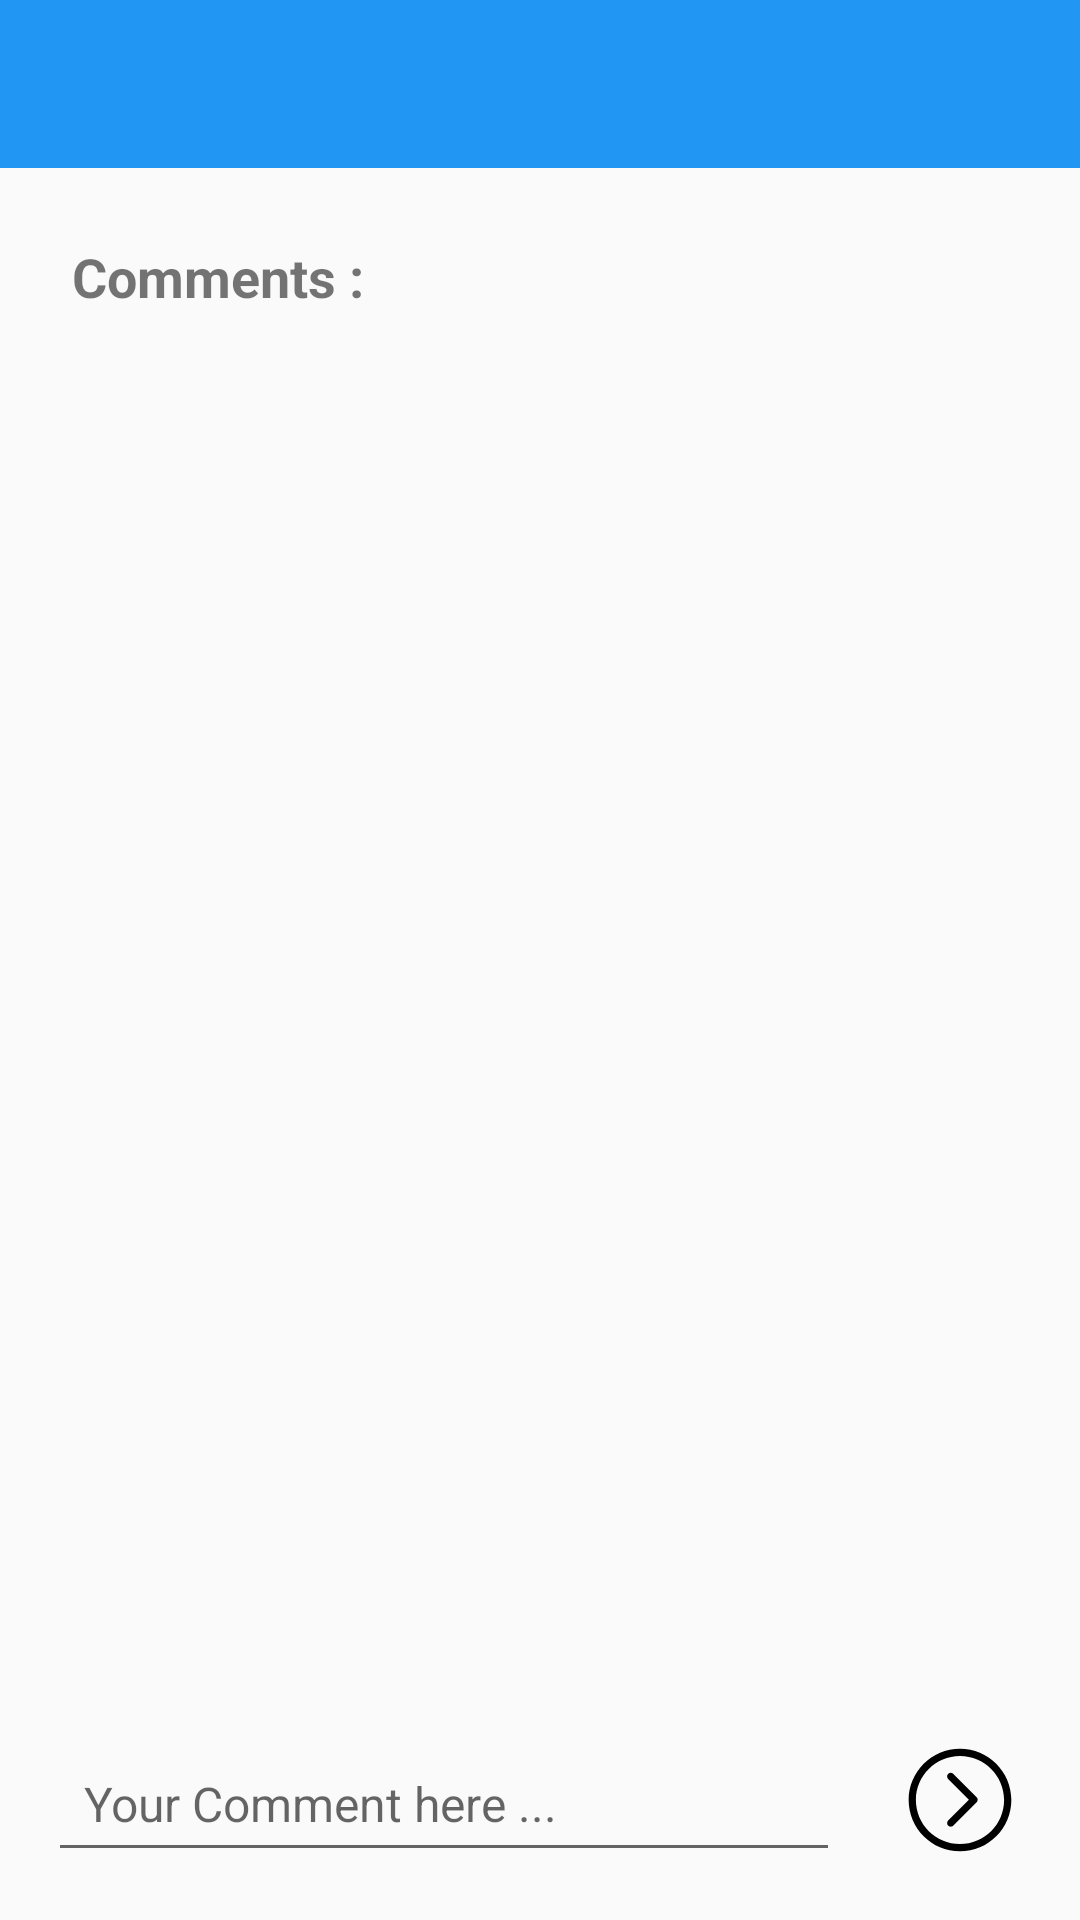

Screen size 1080 x 1920. Icon name, then its center in pixels as (x,y):
rightarrow: (960,1800)
